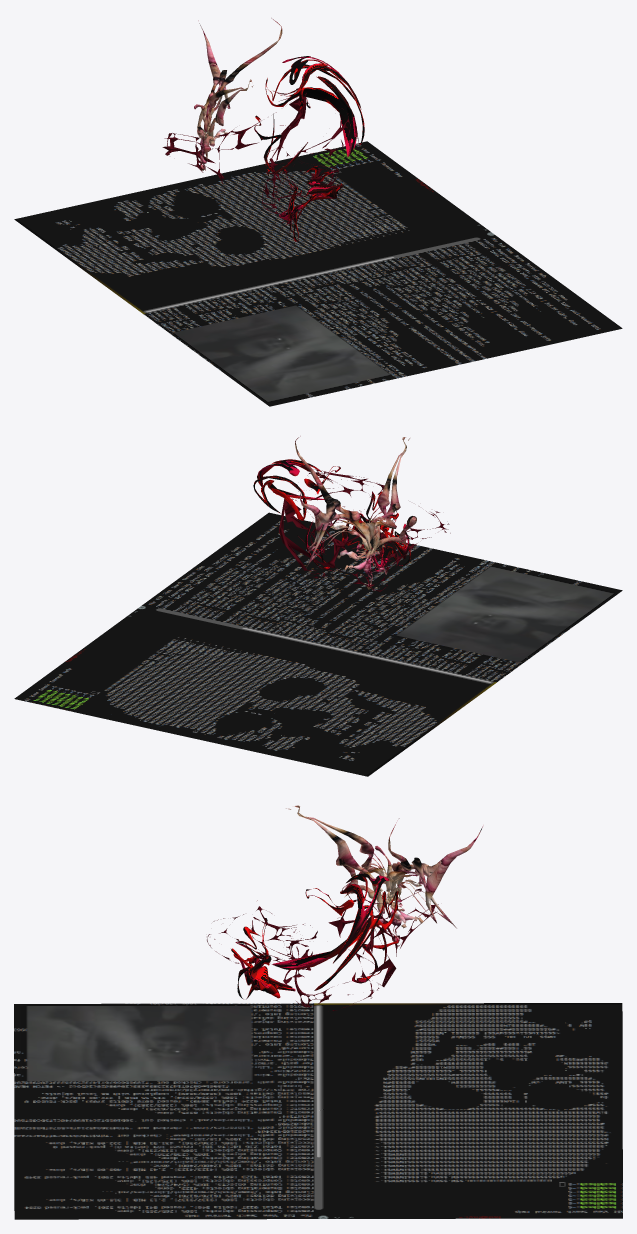
The model's file is karta2.glb.
The picture shows the model from 3 angles, top to bottom: view 1: azimuth 30°, elevation 25°; view 2: azimuth 150°, elevation 25°; view 3: azimuth 270°, elevation 25°; orthographic projection. The views are drawn at different scales.
Visible parts, largest first — view 1: drawsel; view 2: drawsel; view 3: drawsel.
Part boxes in pixels (x1,y1,x2,y2): drawsel: (14,18,622,406); drawsel: (14,436,622,776); drawsel: (14,805,622,1219).
Bounding box in the file's own units: 425 × 279 × 531.
3 materials, 3 textured.
